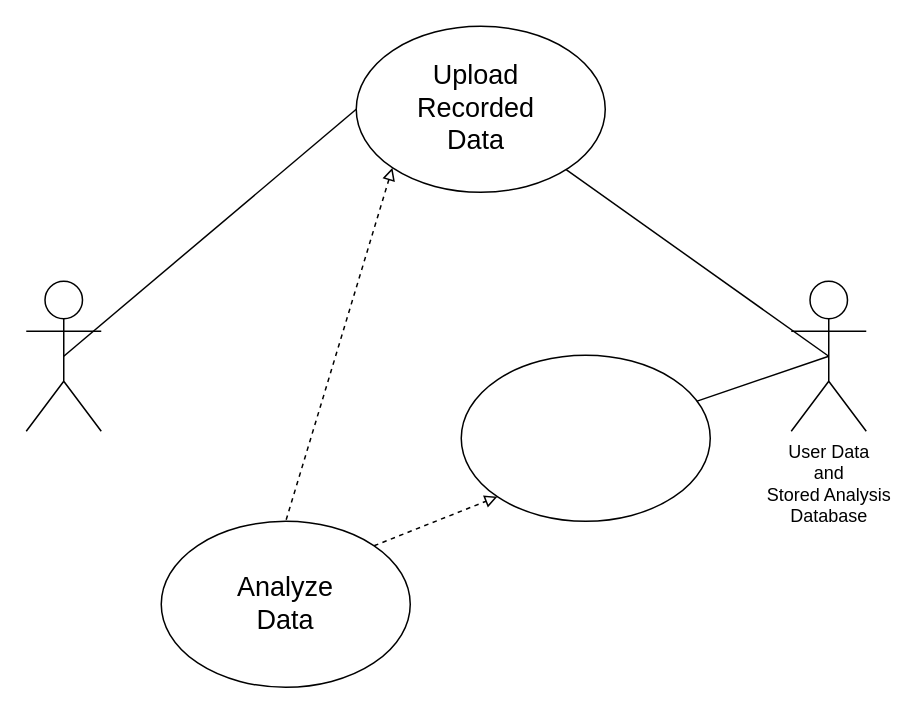
Some shapes in this 917 by 714 pixel diagram are drawn without their labels. The centre of each missing label's shape, as x and y in pixels:
"Save Analysis Data" belongs at point (585, 437).
"User" belongs at point (63, 355).
